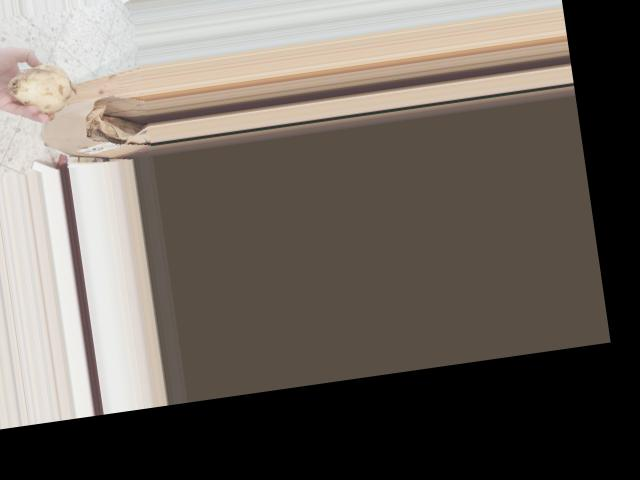onion: (3, 56, 79, 122)
